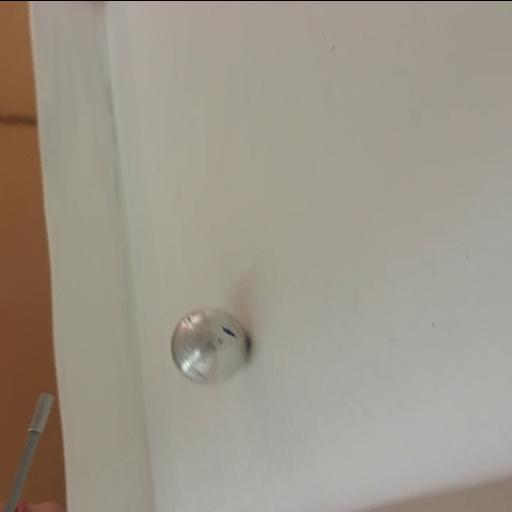alive: (168, 305, 249, 386)
